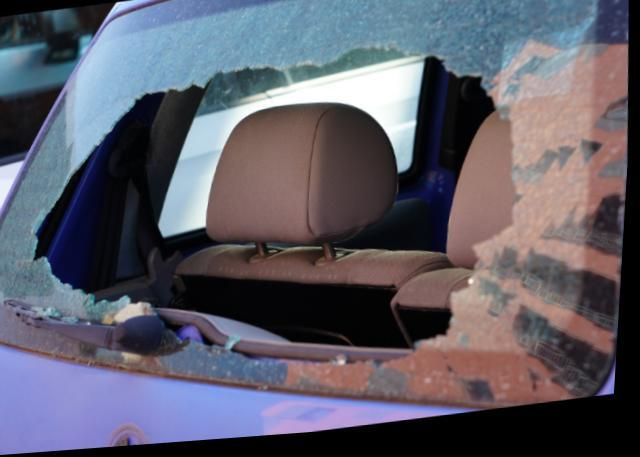glass shatter: (0, 0, 630, 416)
